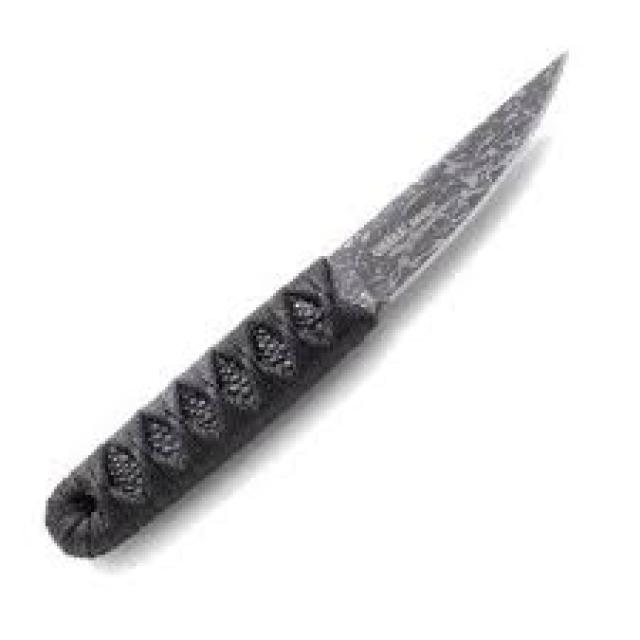knives: (37, 43, 575, 566)
